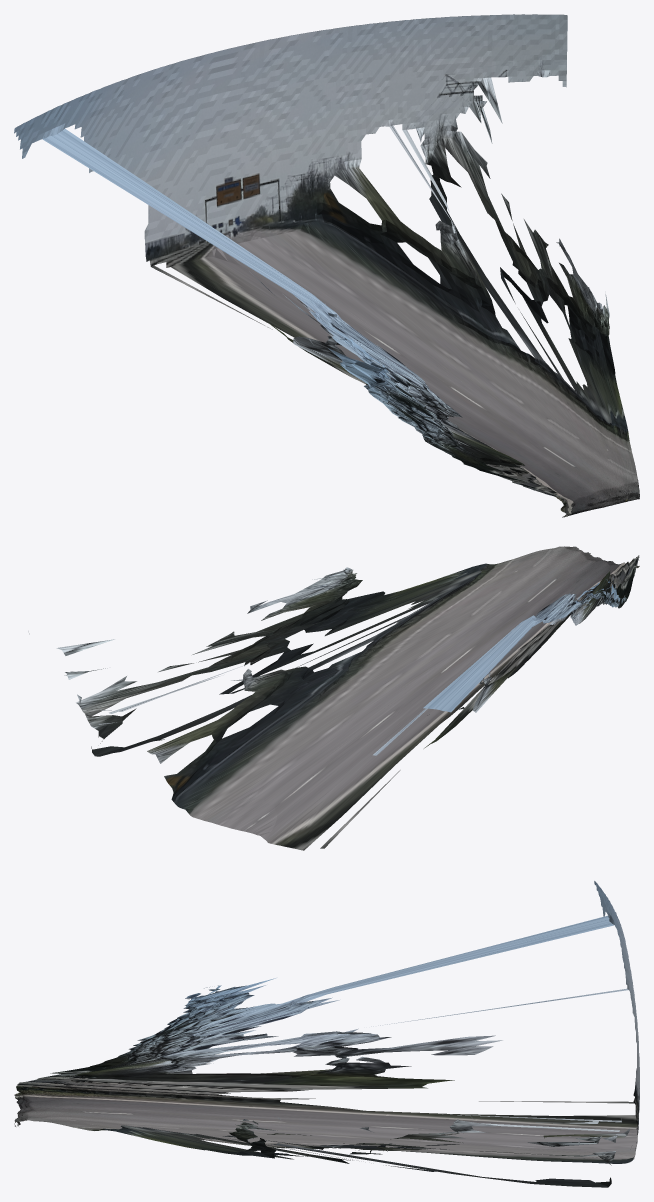
The picture shows the model from 3 angles, top to bottom: view 1: azimuth 30°, elevation 25°; view 2: azimuth 150°, elevation 25°; view 3: azimuth 270°, elevation 25°; orthographic projection. The views are drawn at different scales.
Visible parts, largest first — view 1: defaultobject; view 2: defaultobject; view 3: defaultobject.
Boxes of the visible parts, x1,y1,x2,y2 form: defaultobject: (14,14,639,517); defaultobject: (28,546,639,850); defaultobject: (14,881,639,1187).
Size of the model in its own units: 35.79 by 13.29 by 44.38.
Materials: 1 (1 with a texture image).
